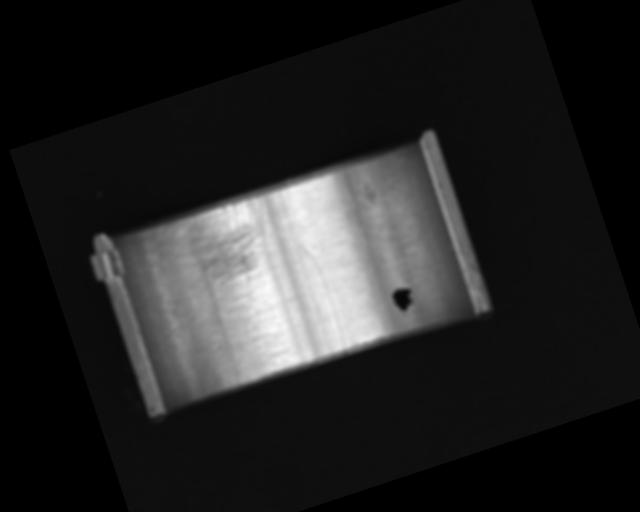blot: (388, 283, 419, 319)
bruise: (359, 179, 379, 205)
nick: (297, 238, 349, 355)
scratch: (156, 189, 287, 305)
